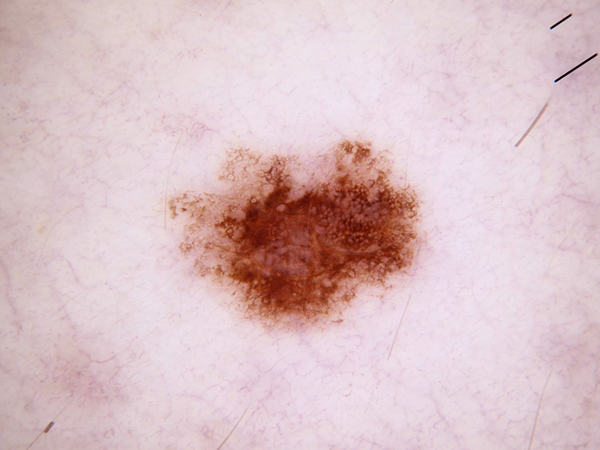Detected Lesion: (171, 132, 430, 331)
